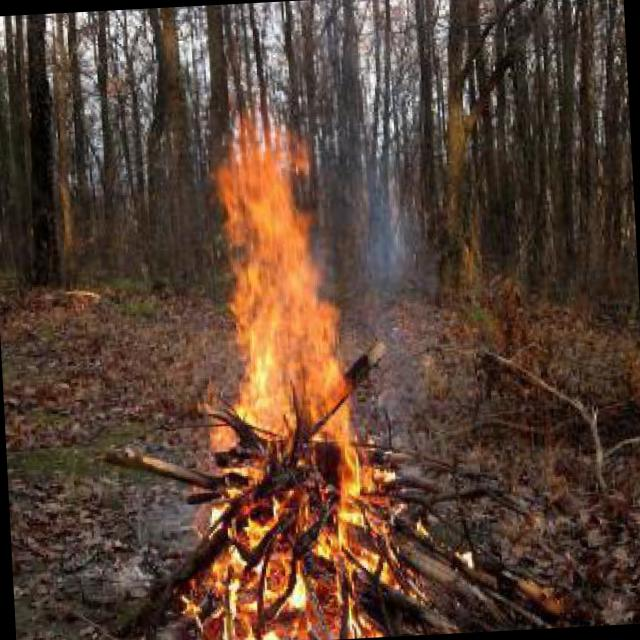fire: (195, 111, 370, 573)
